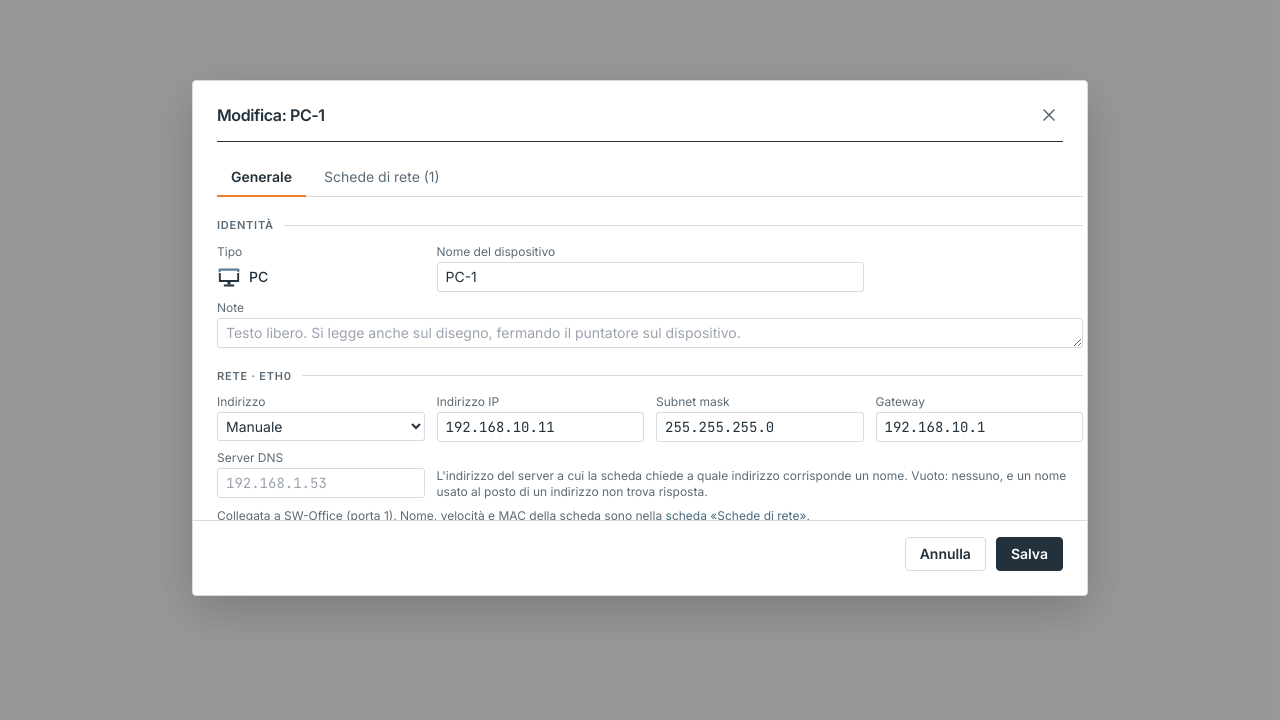
Test case: InspectorModal — the first screen of an end device › sends to «Schede di rete» for the rest of the card
Click the button "scheda «Schede di rete»". click: click(736, 516)
box: x1=666 y1=508 x2=806 y2=524
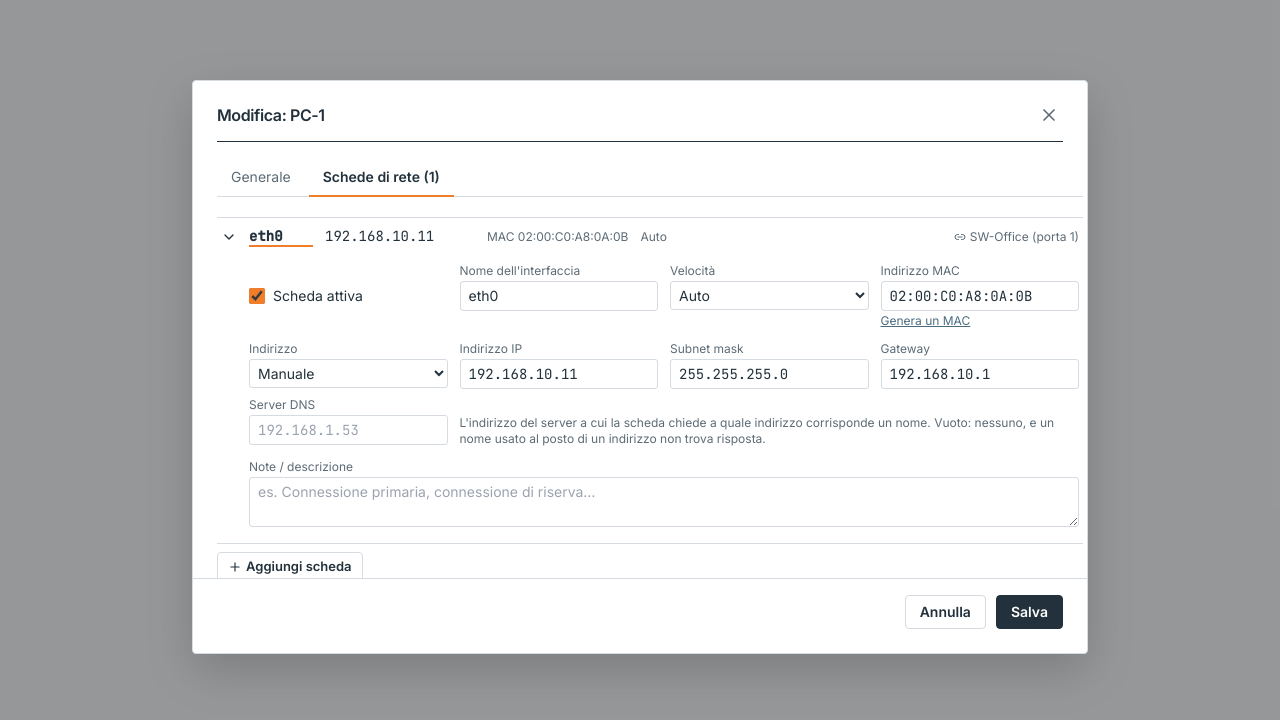
Expected: the button with class "tab-header" shows "Schede di rete", x1=309 y1=158 x2=454 y2=197
Now the field labelled "Nome dell'interfaccia" holds "eth0", box x1=460 y1=281 x2=658 y2=311
Now the field labelled "Indirizzo MAC" is shown, box x1=880 y1=281 x2=1079 y2=311
